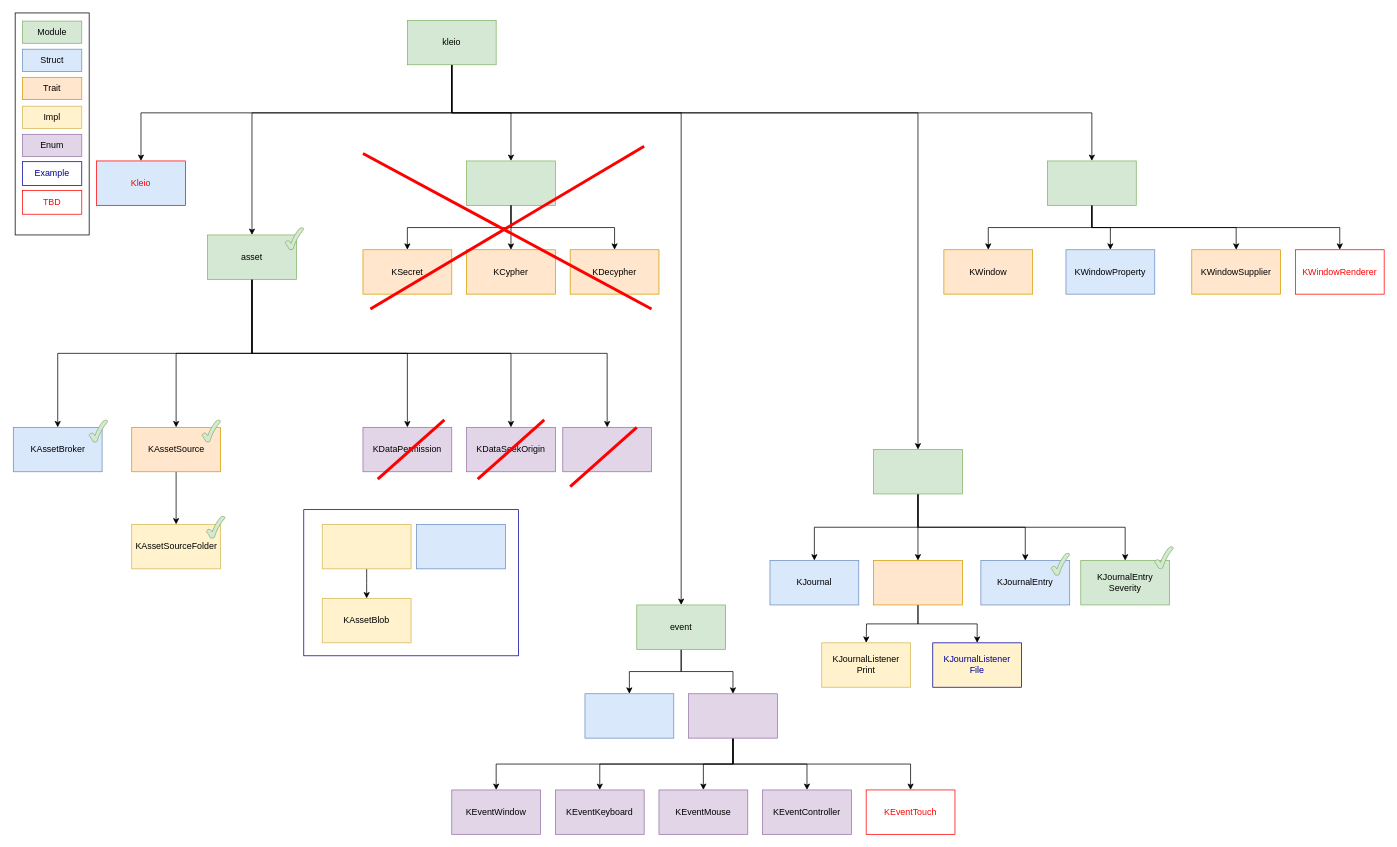
Some shapes in this 1397 by 847 pixel diagram are drawn without their labels. Each missing label, with the centre of its shape:
"crypto" belongs at point (510, 182).
"journal" belongs at point (917, 471).
"KAssetBlobify" belongs at point (460, 546).
"KAssetSourceBlob" belongs at point (366, 546).
"KDataResult" belongs at point (607, 449).
"KEvent" belongs at point (732, 715).
"KEventRegister" belongs at point (629, 715).
"KJournalListener" belongs at point (917, 582).
"window" belongs at point (1091, 182).
